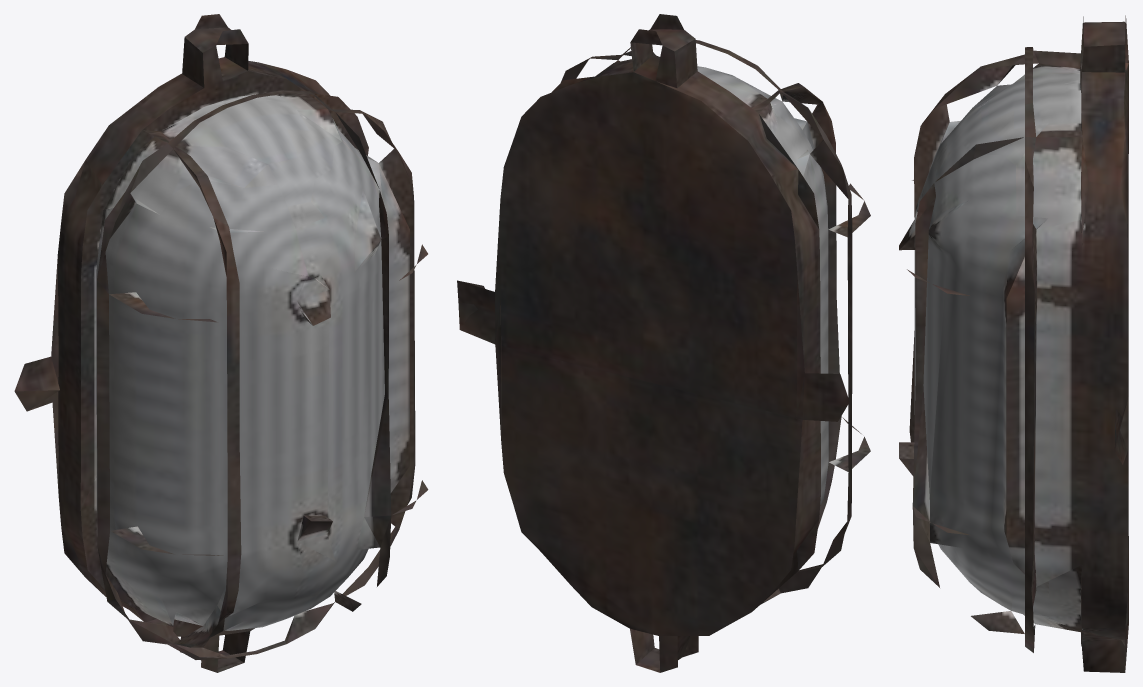
File: wall_lamp.glb
3 renders of one model, left to right at view 1: azimuth 30°, elevation 25°; view 2: azimuth 150°, elevation 25°; view 3: azimuth 270°, elevation 25°, orthographic.
Visible parts, largest first — view 1: mesh; view 2: mesh; view 3: mesh.
Boxes of the visible parts, box(x1,y1,x2,y2) form: mesh: box(14, 14, 428, 672); mesh: box(457, 14, 870, 672); mesh: box(899, 15, 1128, 672).
Bounding box in the file's own units: 0.2759 × 0.43 × 0.1378.
1 material, 1 textured.
